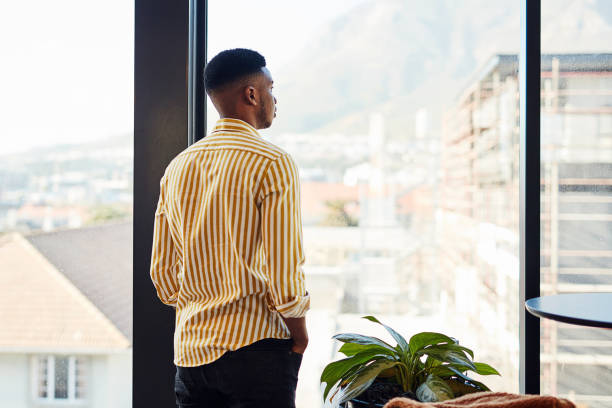without mask: (227, 64, 291, 131)
